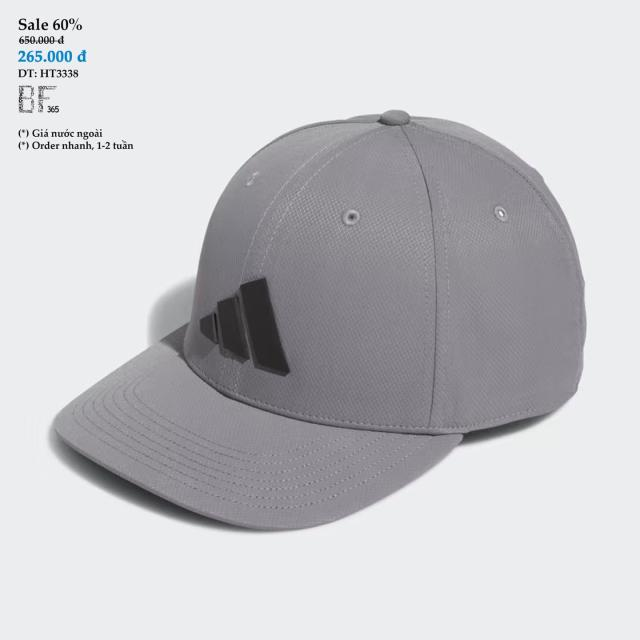no_helmet: (44, 97, 598, 541)
